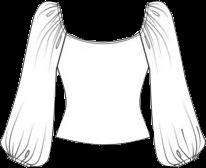Bodice: (55, 32, 149, 145)
Neckline: (67, 31, 140, 43)
Sleeve: (0, 2, 67, 167), (140, 2, 205, 167)
Sleeveline: (56, 2, 66, 66), (139, 3, 149, 66)
Waistline: (54, 135, 149, 144)
